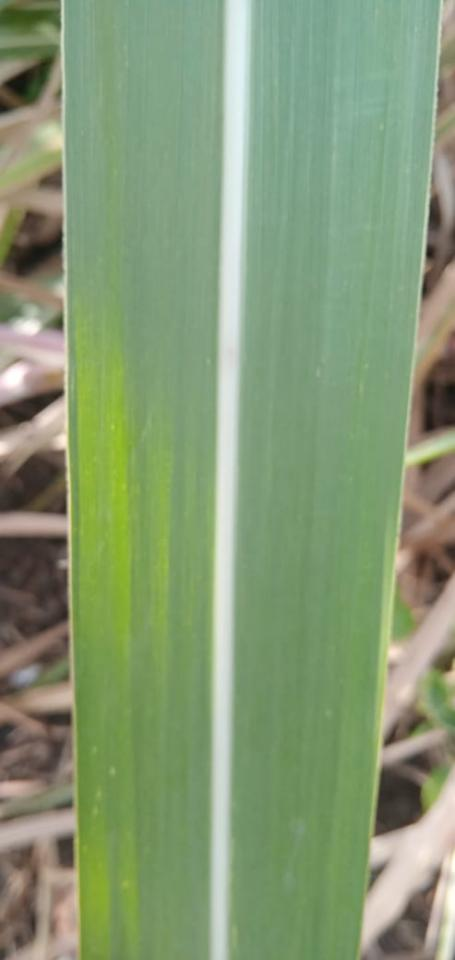Healthy: (60, 0, 442, 959)
